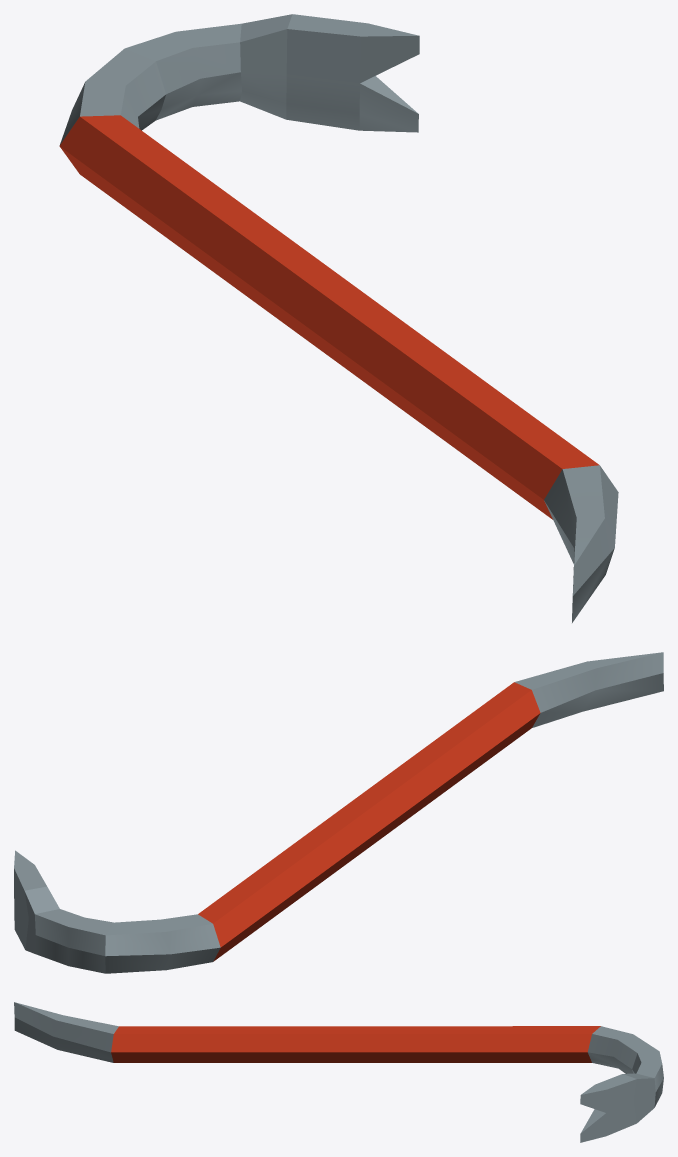
The model's file is crowbar.FBX.
3 renders of one model, top to bottom at view 1: azimuth 30°, elevation 25°; view 2: azimuth 150°, elevation 25°; view 3: azimuth 270°, elevation 25°, orthographic. The views are drawn at different scales.
Parts seen in each view (by area): view 1: crowbar_freeman; view 2: crowbar_freeman; view 3: crowbar_freeman.
Boxes of the visible parts, box(x1,y1,x2,y2) form: crowbar_freeman: box(59, 14, 618, 622); crowbar_freeman: box(14, 652, 663, 973); crowbar_freeman: box(14, 1002, 663, 1142).
Bounding box in the file's own units: 25.9 × 5.76 × 70.5.
